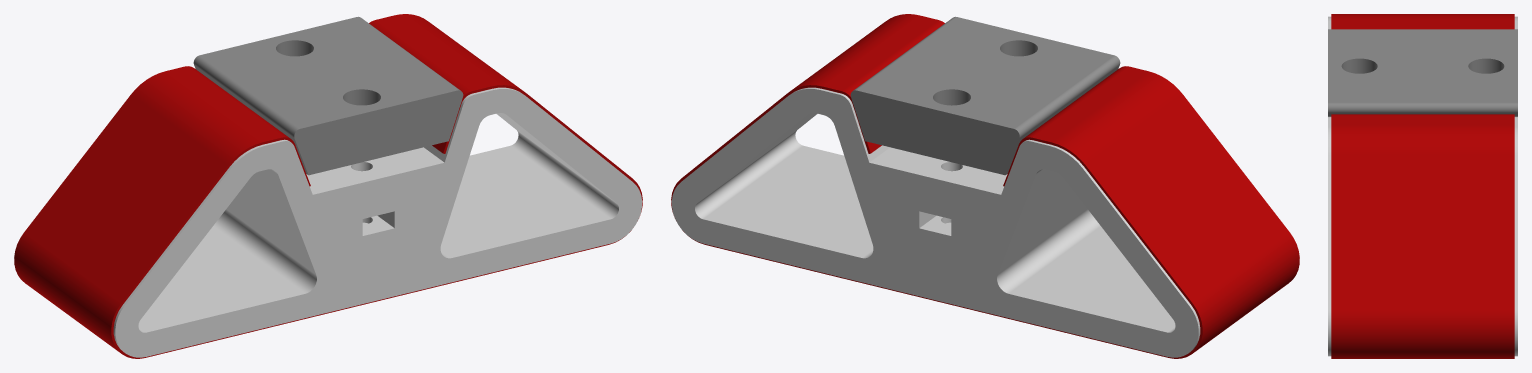
The picture shows the model from 3 angles, left to right: view 1: azimuth 30°, elevation 25°; view 2: azimuth 150°, elevation 25°; view 3: azimuth 270°, elevation 25°; orthographic projection. The views are drawn at different scales.
Parts seen in each view (by area): view 1: Lima-1, Lima_top-1; view 2: Lima-1, Lima_top-1; view 3: Lima-1, Lima_top-1.
Boxes of the visible parts, x1,y1,x2,y2 form: Lima-1: (14, 14, 642, 358); Lima_top-1: (193, 16, 463, 175); Lima-1: (671, 14, 1299, 358); Lima_top-1: (850, 16, 1120, 175); Lima-1: (1328, 14, 1517, 358); Lima_top-1: (1328, 29, 1517, 116).
Bounding box in the file's own units: 0.0916 × 0.0318 × 0.03.
